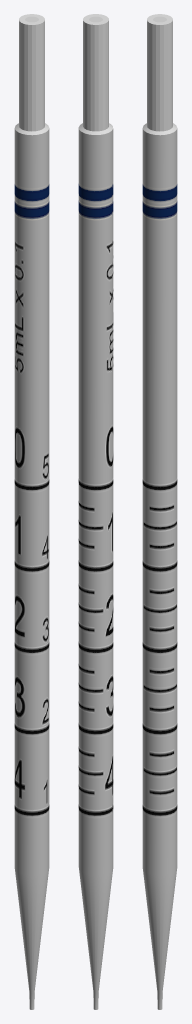
Rendered from 5mlserological.fbx.
The picture shows the model from 3 angles, left to right: view 1: azimuth 90°, elevation 25°; view 2: azimuth 210°, elevation 25°; view 3: azimuth 270°, elevation 25°; orthographic projection.
Parts seen in each view (by area): view 1: serological-pipette-5-ref, serological-pipette-5-fluid-02b; view 2: serological-pipette-5-ref, serological-pipette-5-fluid-02b; view 3: serological-pipette-5-ref, serological-pipette-5-fluid-02b.
Boxes of the visible parts, x1,y1,x2,y2 form: serological-pipette-5-ref: [14, 16, 49, 1009]; serological-pipette-5-fluid-02b: [19, 14, 44, 131]; serological-pipette-5-ref: [78, 16, 113, 1009]; serological-pipette-5-fluid-02b: [83, 14, 108, 131]; serological-pipette-5-ref: [142, 16, 177, 1009]; serological-pipette-5-fluid-02b: [147, 14, 172, 131].
Size of the model in its own units: 0.00736 by 0.232 by 0.00736.
